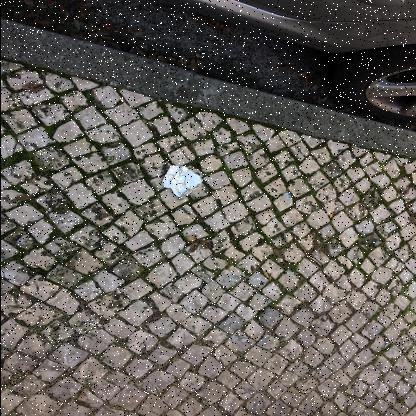metal: (160, 165, 200, 201)
